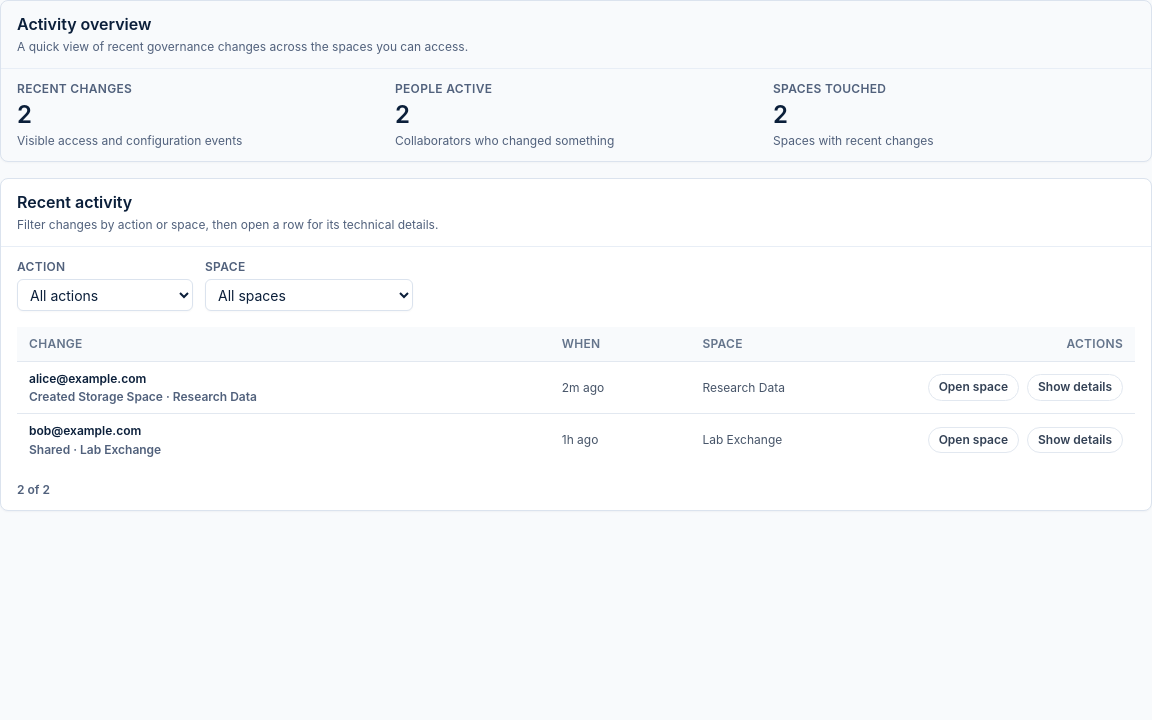
PortalActivityPanel › renders activity rows from portal activity data and keeps IP in details
Expected: the heading "Activity overview" is shown, [17,14,151,34]
Expected: the heading "Recent activity" is shown, [17,192,132,212]
Click the button "Show details" in the row of "alice@example.com": (1075,387) [1027,374,1123,401]
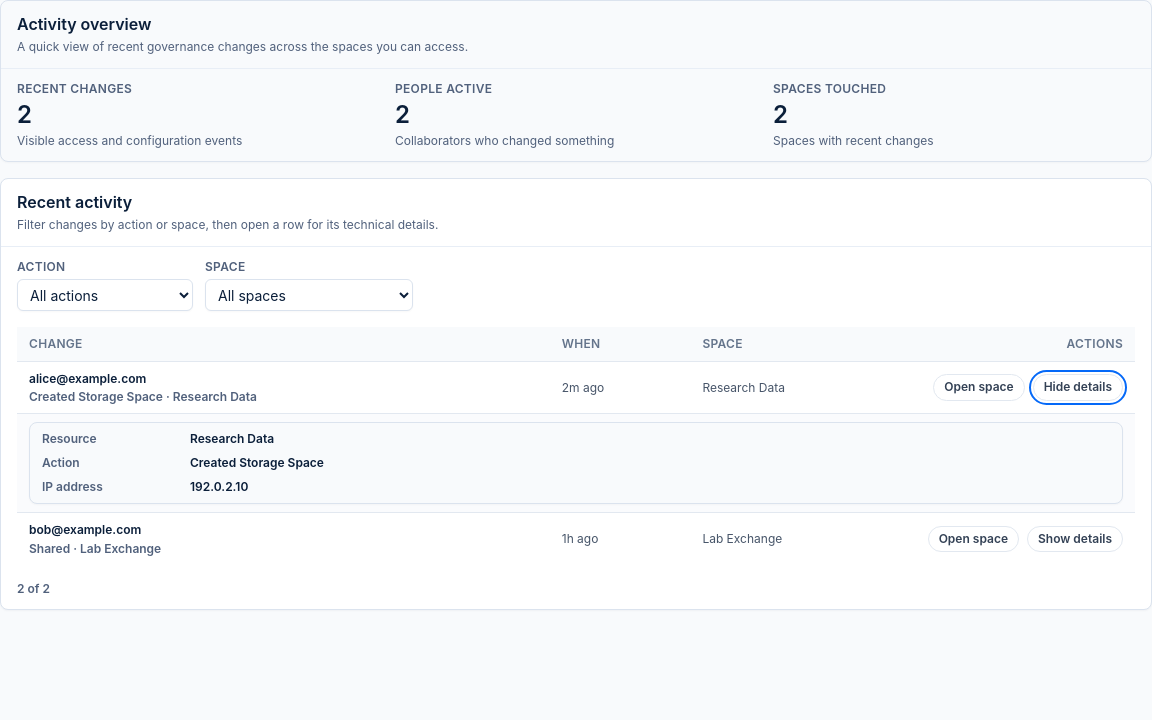
Result: the text "Resource" is shown at [42,431,97,446]
Result: the text "IP address" is shown at [42,479,103,494]
Result: the text "192.0.2.10" is shown at [190,479,248,494]
